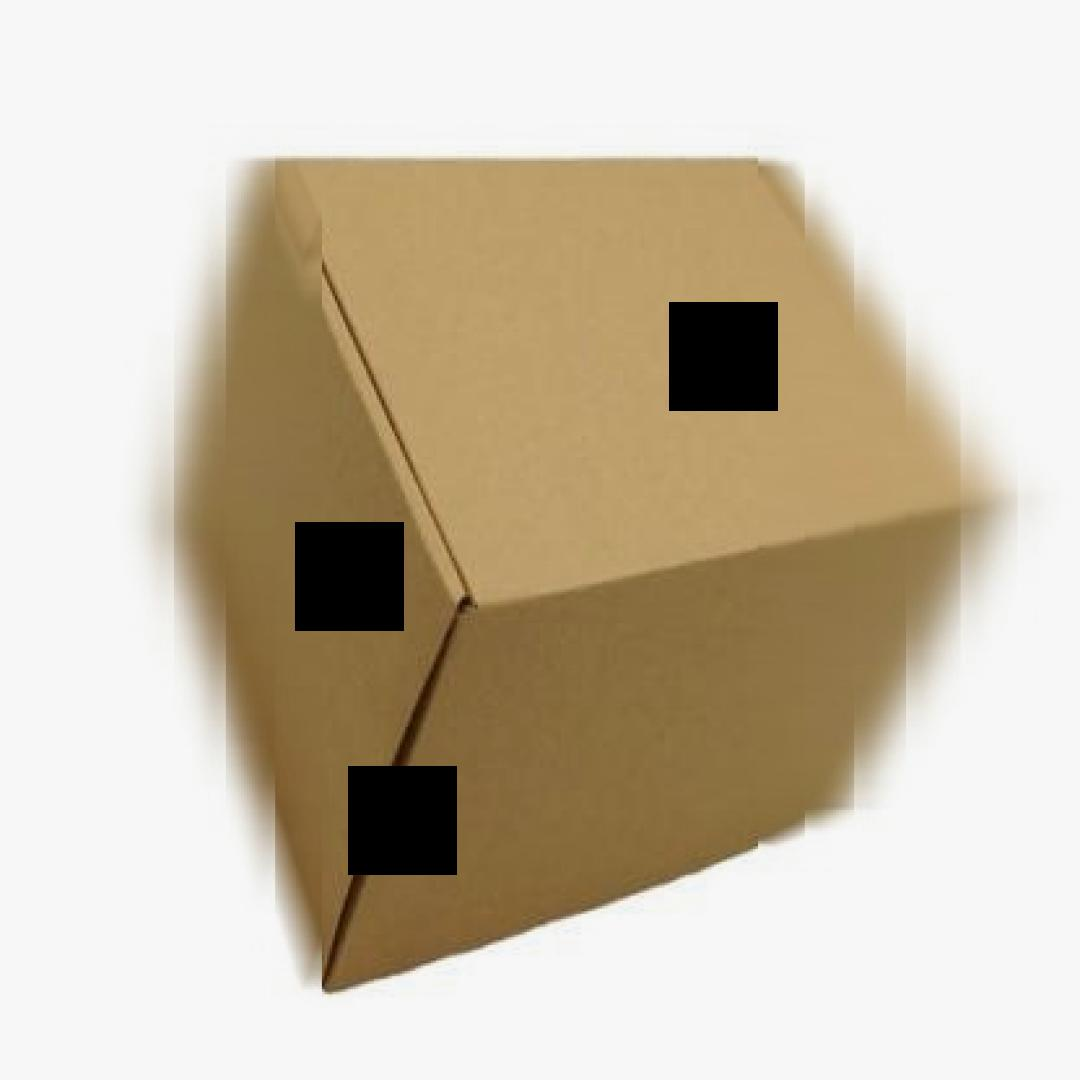package: (176, 164, 996, 986)
